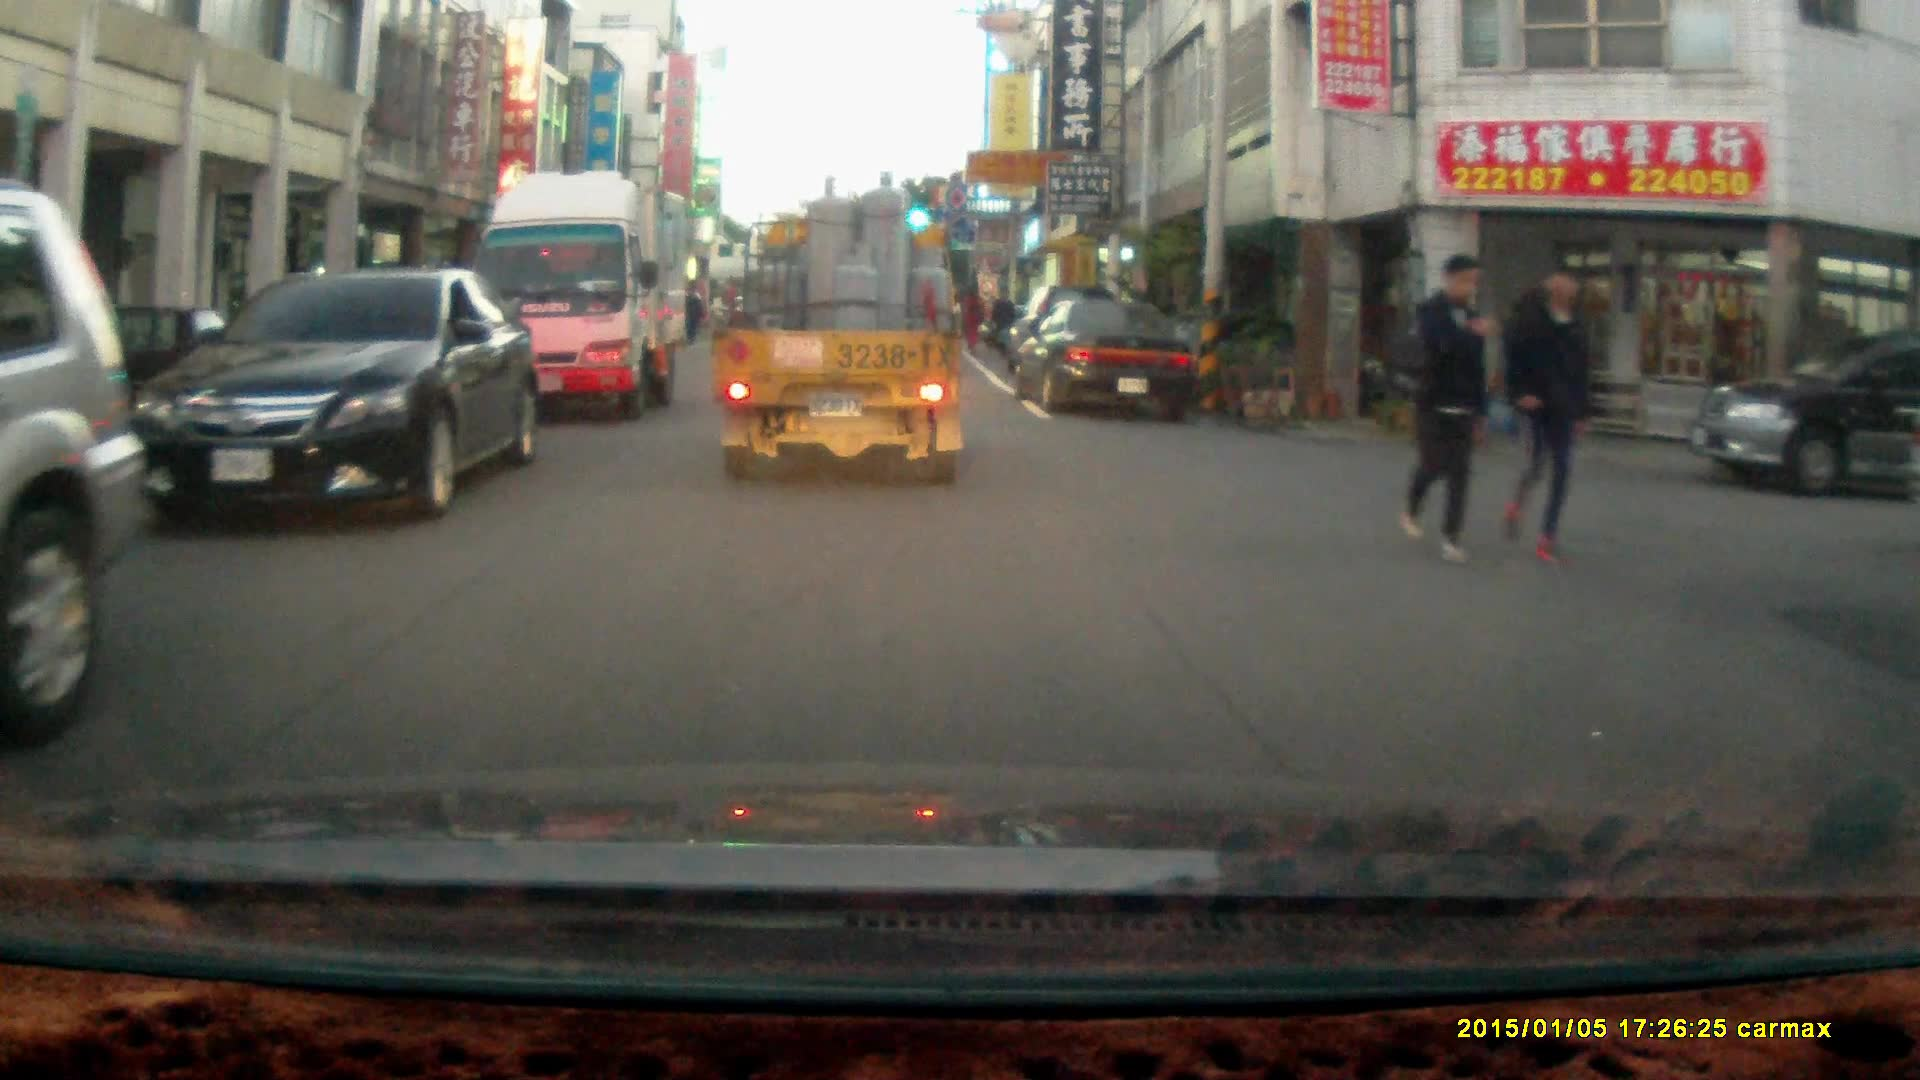pedestrian: (1501, 259, 1599, 573), (1399, 248, 1494, 563), (986, 284, 1015, 361), (672, 283, 705, 346), (960, 280, 985, 355)
vehicle: (126, 265, 548, 520), (1, 182, 153, 744), (717, 170, 970, 489), (469, 168, 691, 425), (1012, 299, 1201, 416)
